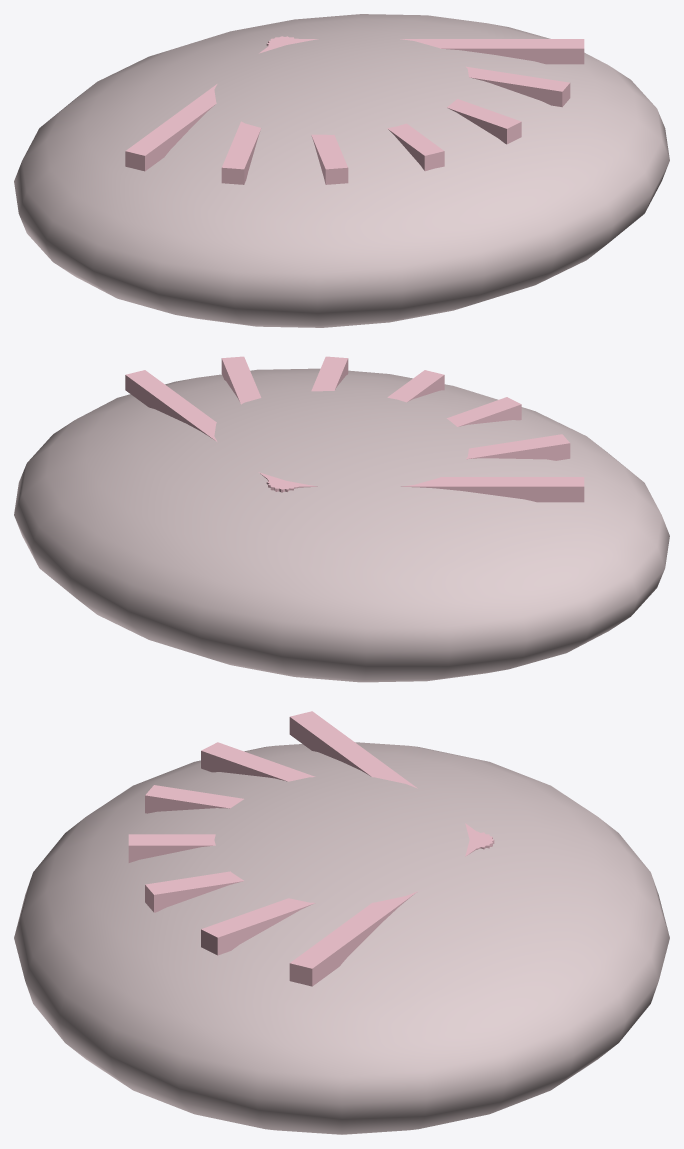
File: shell.glb
3 renders of one model, top to bottom at view 1: azimuth 30°, elevation 25°; view 2: azimuth 150°, elevation 25°; view 3: azimuth 270°, elevation 25°, orthographic. The views are drawn at different scales.
Visible parts, largest first — view 1: ShellBody, Rib6, Rib0, Rib5, Rib1, Rib4, Rib3, Rib2; view 2: ShellBody, Rib0, Rib6, Rib1, Rib2, Rib5, Rib3, Rib4; view 3: ShellBody, Rib6, Rib0, Rib5, Rib1, Rib4, Rib2, Rib3.
Boxes of the visible parts, x1,y1,x2,y2 form: ShellBody: (14, 14, 669, 327); Rib6: (270, 39, 584, 64); Rib0: (125, 36, 300, 171); Rib5: (268, 37, 570, 107); Rib1: (221, 37, 298, 184); Rib4: (266, 36, 521, 144); Rib3: (268, 36, 444, 171); Rib2: (271, 37, 348, 184); ShellBody: (14, 368, 669, 682); Rib0: (270, 477, 584, 502); Rib6: (125, 370, 301, 492); Rib1: (267, 434, 570, 491); Rib2: (266, 397, 521, 492); Rib5: (221, 356, 298, 491); Rib3: (268, 370, 444, 491); Rib4: (271, 356, 348, 490); ShellBody: (14, 742, 669, 1134); Rib6: (289, 832, 492, 986); Rib0: (289, 711, 492, 848); Rib5: (201, 831, 493, 955); Rib1: (201, 742, 494, 849); Rib4: (145, 832, 492, 912); Rib2: (145, 785, 492, 849); Rib3: (128, 834, 489, 862).
Bounding box in the file's own units: 1.2 × 0.36 × 1.
